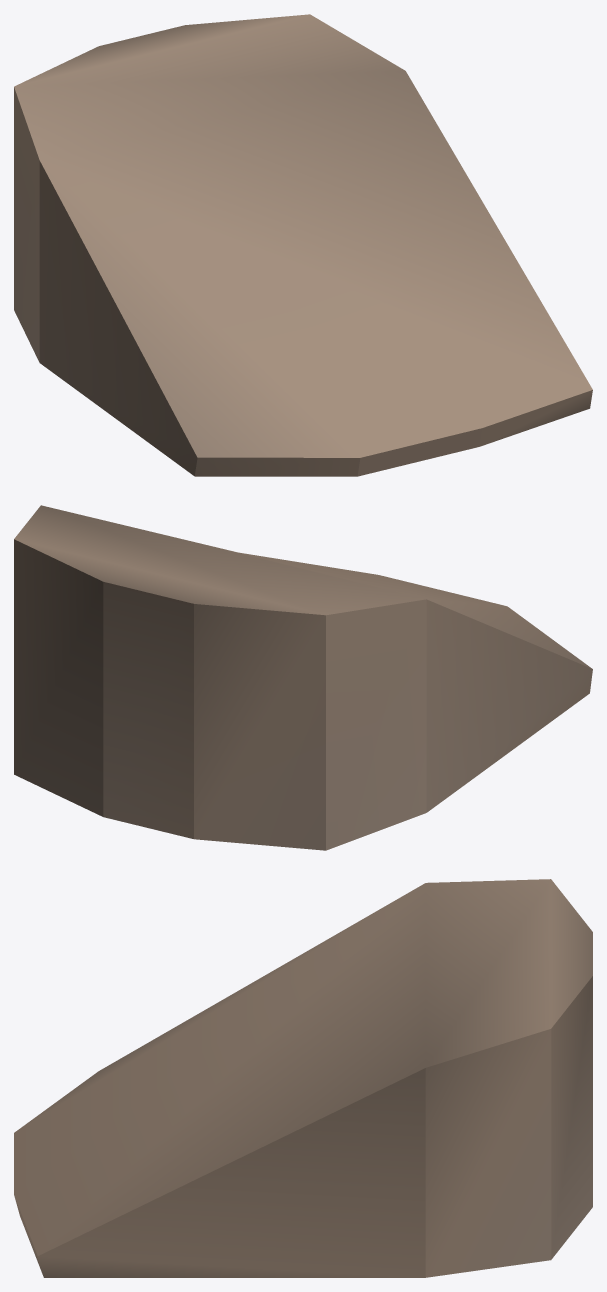
File: Food_Cheese.fbx
3 renders of one model, top to bottom at view 1: azimuth 30°, elevation 25°; view 2: azimuth 150°, elevation 25°; view 3: azimuth 270°, elevation 25°, orthographic. The views are drawn at different scales.
Parts seen in each view (by area): view 1: Food_Cheese; view 2: Food_Cheese; view 3: Food_Cheese.
Boxes of the visible parts, left/top/right/bottom form: Food_Cheese: left=14, top=14, right=592, bottom=476; Food_Cheese: left=14, top=505, right=592, bottom=850; Food_Cheese: left=14, top=879, right=592, bottom=1277.
Size of the model in its own units: 12.86 by 7.5 by 17.01.
